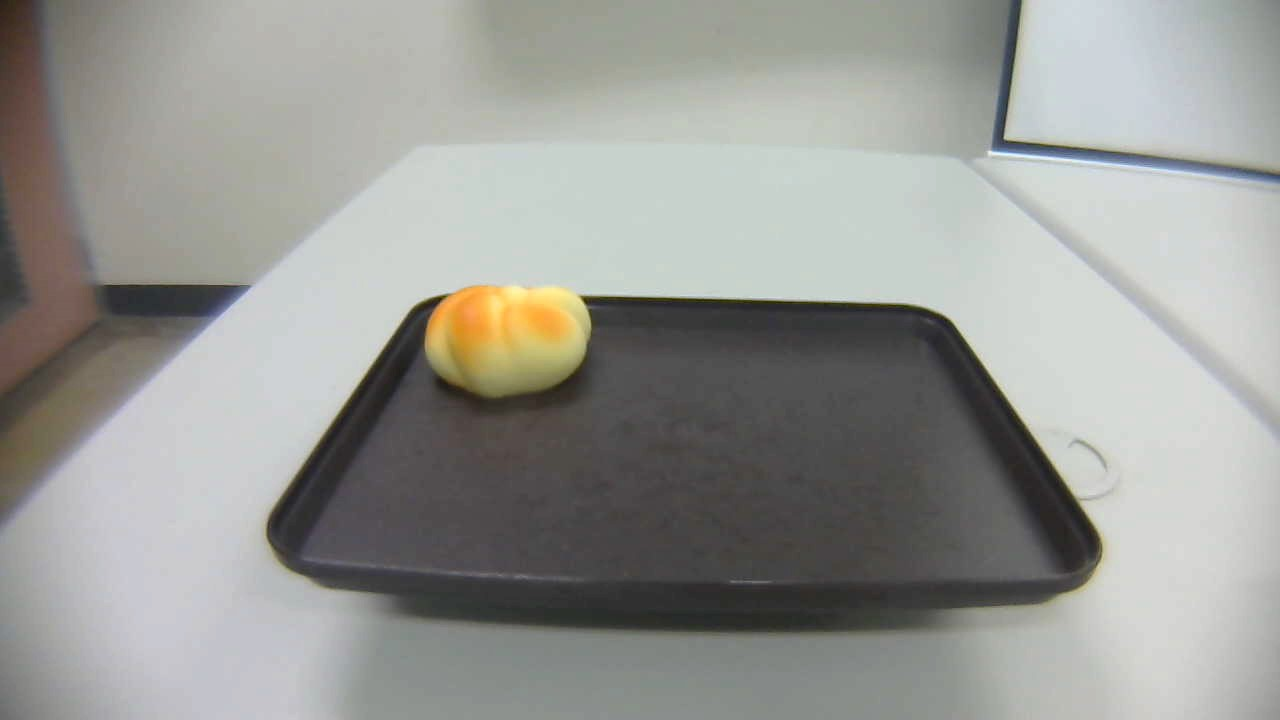twist bread: (424, 283, 592, 399)
